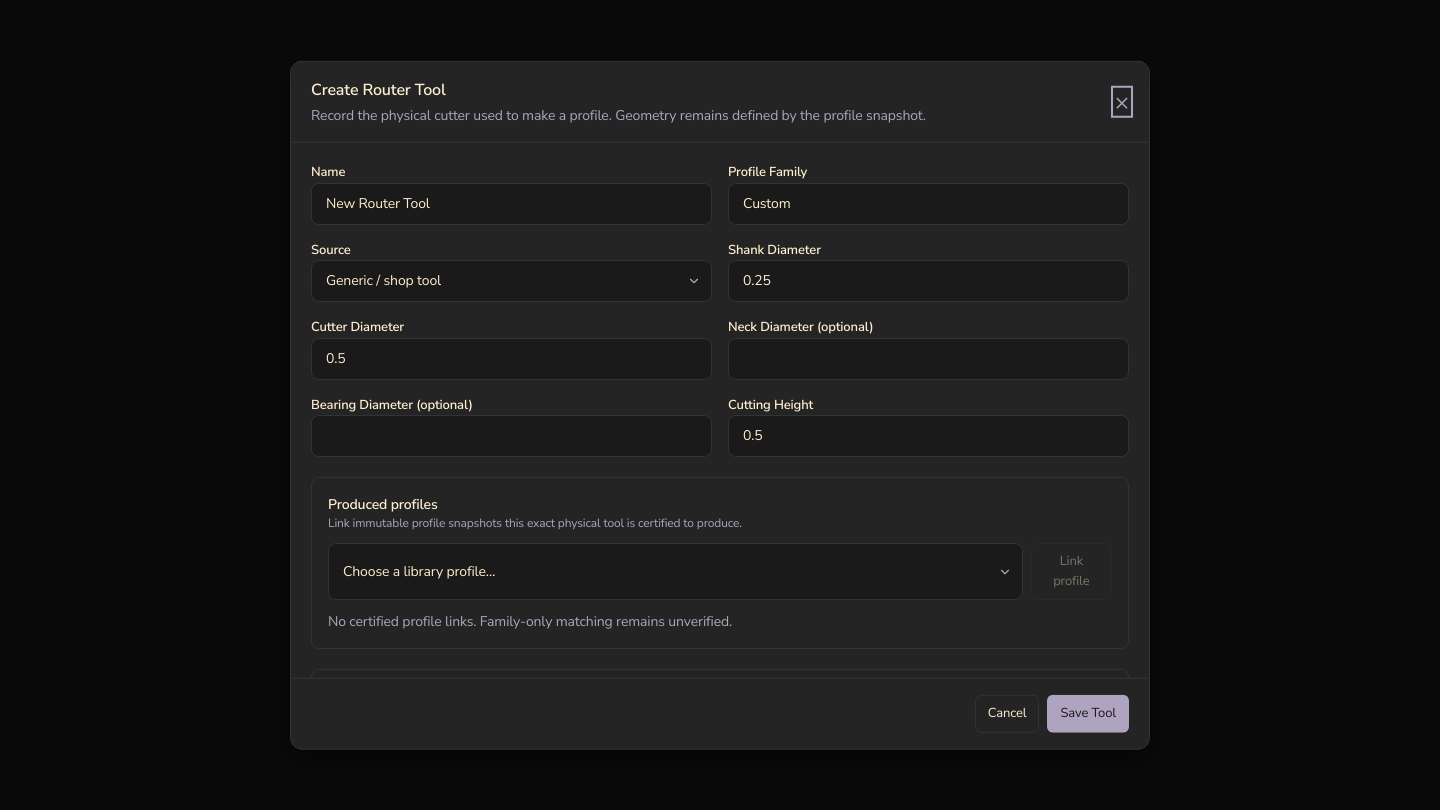
Test: RouterToolDialog source metadata › reveals clearly labeled manufacturer metadata in keyboard order
Check: the field labelled "Manufacturer (required)" is not shown
Select "Manufacturer / catalog tool" in the dropdown labelled "Source" at (512, 281), box [311,260,712,302]
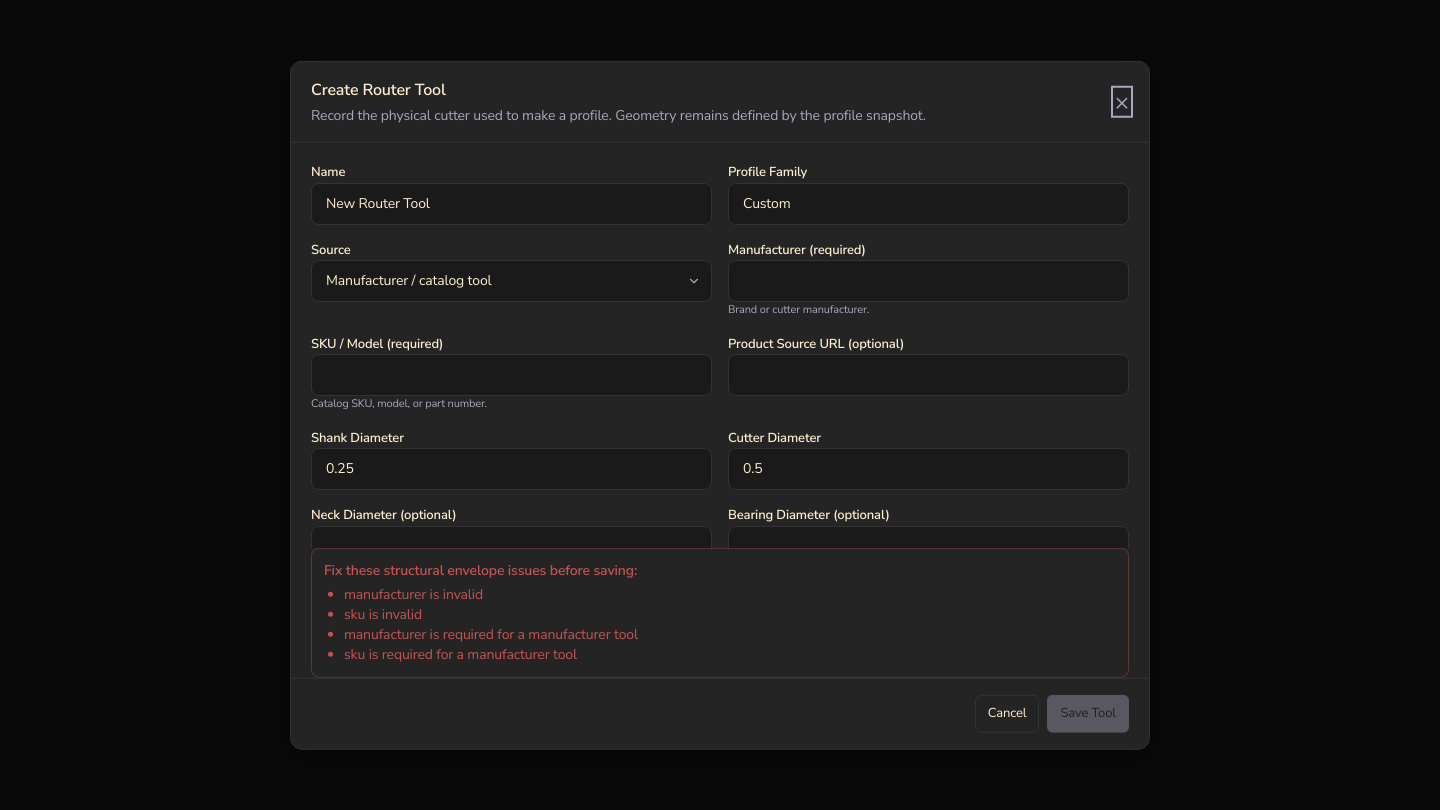
Check: the field labelled "Manufacturer (required)" is shown, box [728,260,1129,302]
Check: the field labelled "SKU / Model (required)" is shown, box [311,354,712,396]
Check: the field labelled "Product Source URL (optional)" is shown, box [728,354,1129,396]
